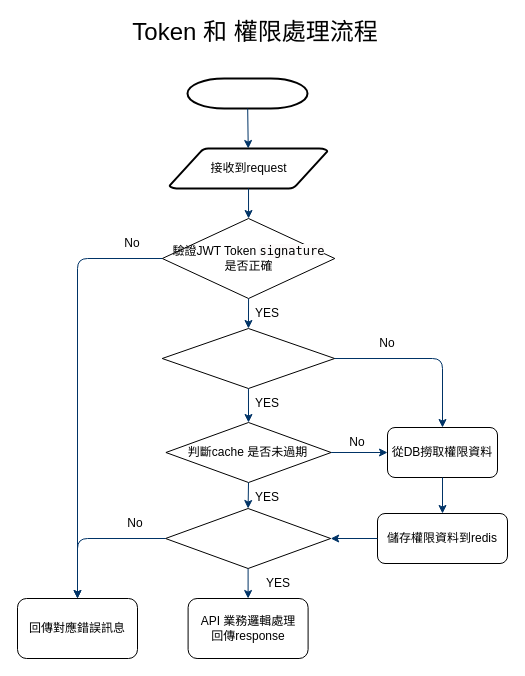
Image size: 525x676. Some labels were removed from this diagram. Here are the shapes that lost their labels. From the top down, the centre of each, then its label:
At pixel 247 93: "start".
At pixel 248 358: "Redis 是否有權限cache".
At pixel 247 538: "判斷是否有權限".
